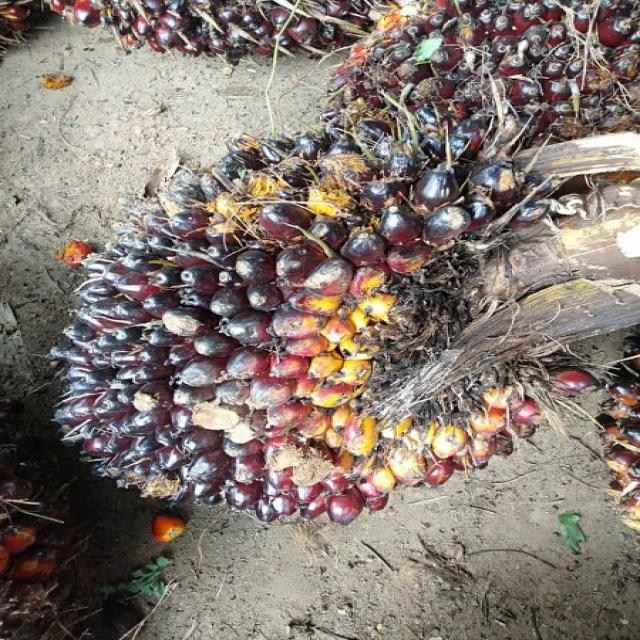fraksi 00: (34, 131, 582, 534)
